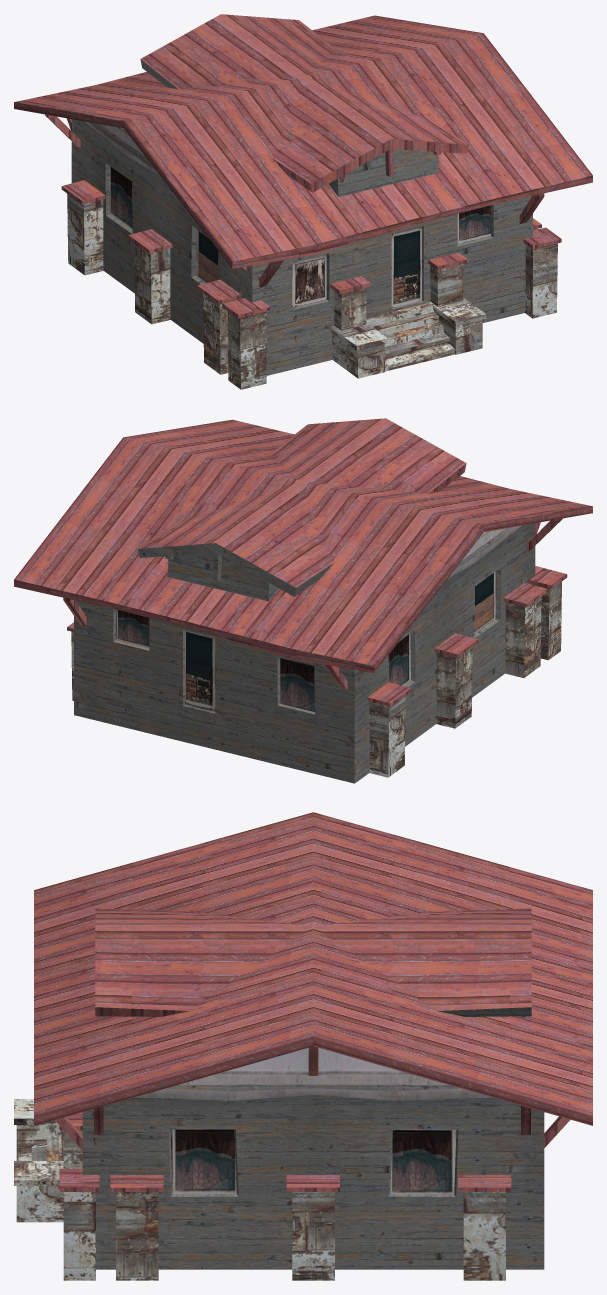
The model's file is rural_houseold_1_material_39_0.glb.
3 renders of one model, top to bottom at view 1: azimuth 30°, elevation 25°; view 2: azimuth 150°, elevation 25°; view 3: azimuth 270°, elevation 25°, orthographic. The views are drawn at different scales.
Parts seen in each view (by area): view 1: Rural_HouseOld_1_Material #39_0; view 2: Rural_HouseOld_1_Material #39_0; view 3: Rural_HouseOld_1_Material #39_0.
Part boxes in pixels (x1,y1,x2,y2): Rural_HouseOld_1_Material #39_0: [14, 14, 592, 389]; Rural_HouseOld_1_Material #39_0: [14, 418, 592, 783]; Rural_HouseOld_1_Material #39_0: [14, 812, 592, 1280].
Size of the model in its own units: 5.11 by 2.74 by 5.56.
1 material, 1 textured.
